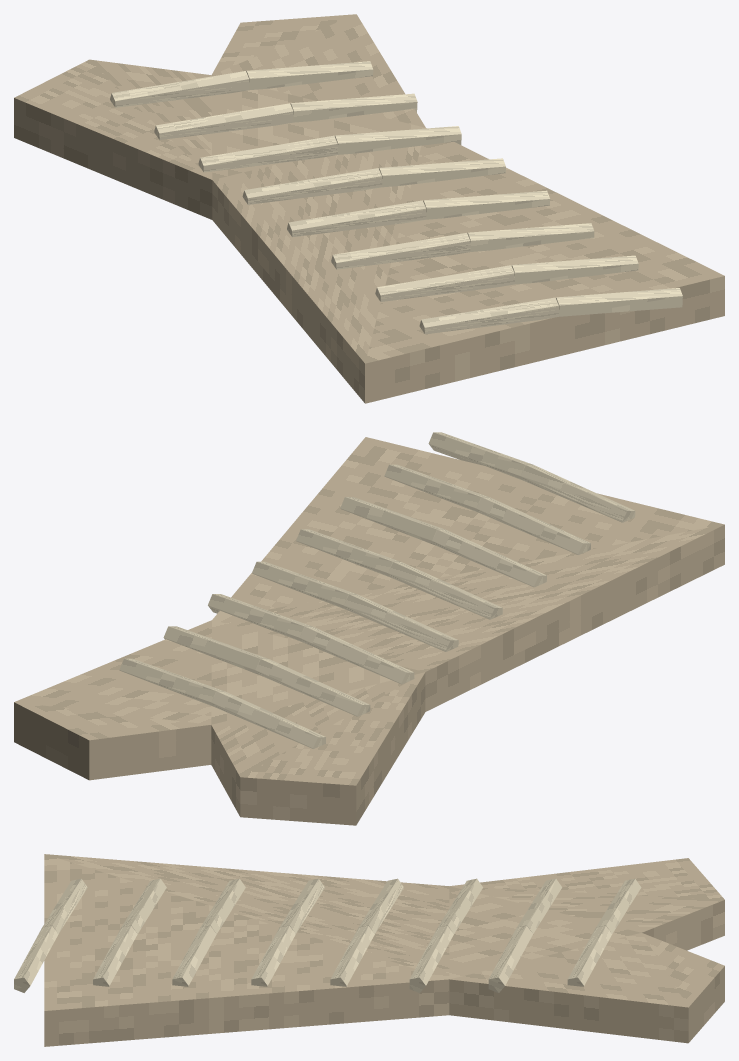
File: mummy_dress.glb
The picture shows the model from 3 angles, top to bottom: view 1: azimuth 30°, elevation 25°; view 2: azimuth 150°, elevation 25°; view 3: azimuth 270°, elevation 25°; orthographic projection. The views are drawn at different scales.
Visible parts, largest first — view 1: block_short dress, block_printed wrap fold 0 (×8), block_printed wrap fold 1 (×8); view 2: block_short dress, block_printed wrap fold 0 (×8), block_printed wrap fold 1 (×8); view 3: block_short dress, block_printed wrap fold 1 (×8), block_printed wrap fold 0 (×8).
Boxes of the visible parts, box(x1,y1,x2,y2) form: block_short dress: box(14, 14, 724, 403); block_printed wrap fold 0 (×8): box(110, 71, 558, 334); block_printed wrap fold 1 (×8): box(246, 61, 682, 316); block_short dress: box(14, 437, 724, 825); block_printed wrap fold 0 (×8): box(211, 465, 635, 748); block_printed wrap fold 1 (×8): box(119, 432, 533, 706); block_short dress: box(44, 854, 724, 1046); block_printed wrap fold 1 (×8): box(14, 925, 612, 992); block_printed wrap fold 0 (×8): box(42, 878, 641, 933).
Bounding box in the file's own units: 0.3128 × 0.046 × 0.5985.
1 material, 1 textured.
